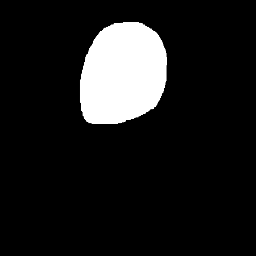mass: (87, 30, 162, 131)
